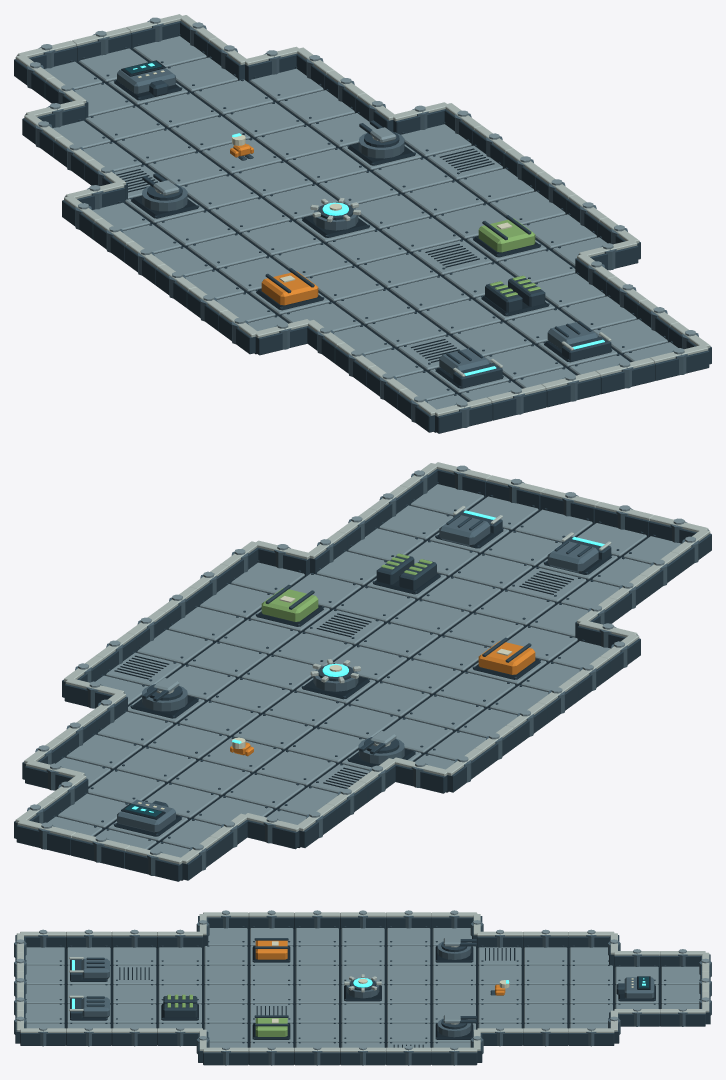
The model's file is wayfarer.glb.
3 renders of one model, top to bottom at view 1: azimuth 30°, elevation 25°; view 2: azimuth 150°, elevation 25°; view 3: azimuth 270°, elevation 25°, orthographic. The views are drawn at different scales.
Visible parts, largest first — view 1: GEO-floor_0-deck.066, GEO-floor_0-deck.025, GEO-floor_0-deck.029, GEO-floor_0-deck.034, GEO-floor_0-deck.010, GEO-floor_0-deck.011, GEO-floor_0-deck.021, GEO-floor_0-deck.022, GEO-floor_0-deck.026, GEO-floor_0-deck.037, GEO-floor_0-deck.043, GEO-floor_0-deck.050 (+63 smaller); view 2: GEO-floor_0-deck.026, GEO-floor_0-deck.022, GEO-floor_0-deck.027, GEO-floor_0-deck.050, GEO-floor_0-deck.056, GEO-floor_0-deck.067, GEO-floor_0-deck.023, GEO-floor_0-deck.030, GEO-floor_0-deck.038, GEO-floor_0-deck.041, GEO-floor_0-deck.042, GEO-floor_0-deck.043 (+61 smaller); view 3: GEO-floor_0-deck.011, GEO-floor_0-deck.050, GEO-floor_0-deck.054, GEO-floor_0-deck.010, GEO-floor_0-deck.012, GEO-floor_0-deck.014, GEO-floor_0-deck.051, GEO-floor_0-deck.053, GEO-floor_0-deck.055, GEO-floor_0-deck.056, GEO-floor_0-deck.029, GEO-floor_0-deck.058 (+82 smaller).
Boxes of the visible parts, x1,y1,x2,y2 form: GEO-floor_0-deck.066: (404, 180, 484, 215); GEO-floor_0-deck.025: (210, 198, 290, 232); GEO-floor_0-deck.029: (335, 289, 415, 324); GEO-floor_0-deck.034: (139, 92, 219, 127); GEO-floor_0-deck.010: (156, 211, 235, 245); GEO-floor_0-deck.011: (187, 234, 267, 268); GEO-floor_0-deck.021: (85, 106, 164, 140); GEO-floor_0-deck.022: (116, 129, 196, 163); GEO-floor_0-deck.026: (241, 220, 321, 255); GEO-floor_0-deck.037: (233, 161, 312, 196); GEO-floor_0-deck.043: (421, 299, 500, 333); GEO-floor_0-deck.050: (225, 102, 304, 137); GEO-floor_0-deck.026: (350, 681, 429, 716); GEO-floor_0-deck.022: (225, 773, 304, 808); GEO-floor_0-deck.027: (381, 659, 461, 693); GEO-floor_0-deck.050: (116, 747, 196, 781); GEO-floor_0-deck.056: (335, 586, 415, 621); GEO-floor_0-deck.067: (219, 619, 298, 654); GEO-floor_0-deck.023: (256, 750, 335, 785); GEO-floor_0-deck.030: (475, 590, 555, 625); GEO-floor_0-deck.038: (264, 691, 344, 726); GEO-floor_0-deck.041: (358, 623, 438, 657); GEO-floor_0-deck.042: (390, 600, 469, 634); GEO-floor_0-deck.043: (421, 577, 500, 611); GEO-floor_0-deck.011: (341, 946, 384, 965); GEO-floor_0-deck.050: (524, 1004, 567, 1023); GEO-floor_0-deck.054: (341, 1004, 384, 1023); GEO-floor_0-deck.010: (387, 946, 430, 965); GEO-floor_0-deck.012: (295, 946, 338, 965); GEO-floor_0-deck.014: (204, 946, 247, 965); GEO-floor_0-deck.051: (478, 1004, 521, 1023); GEO-floor_0-deck.053: (387, 1004, 430, 1023); GEO-floor_0-deck.055: (295, 1004, 338, 1023); GEO-floor_0-deck.056: (204, 1004, 247, 1023); GEO-floor_0-deck.029: (204, 965, 247, 984); GEO-floor_0-deck.058: (113, 1004, 156, 1023).
Size of the model in its own units: 14.56 by 0.86 by 30.56.
